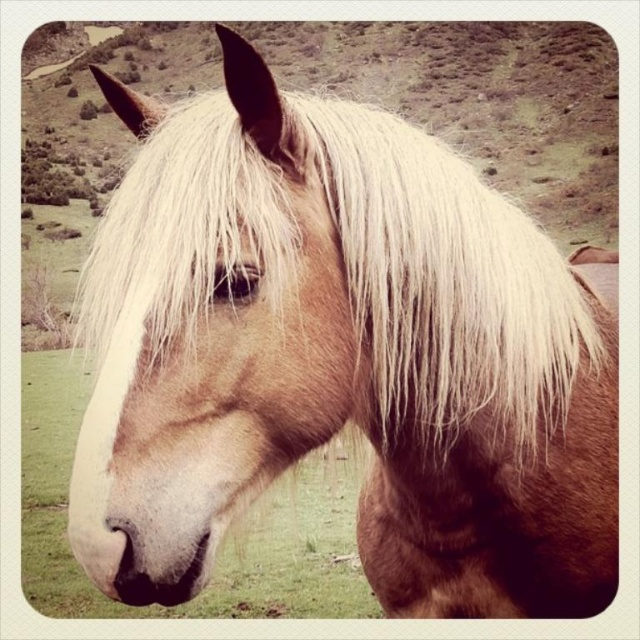Horse: (68, 22, 619, 619)
